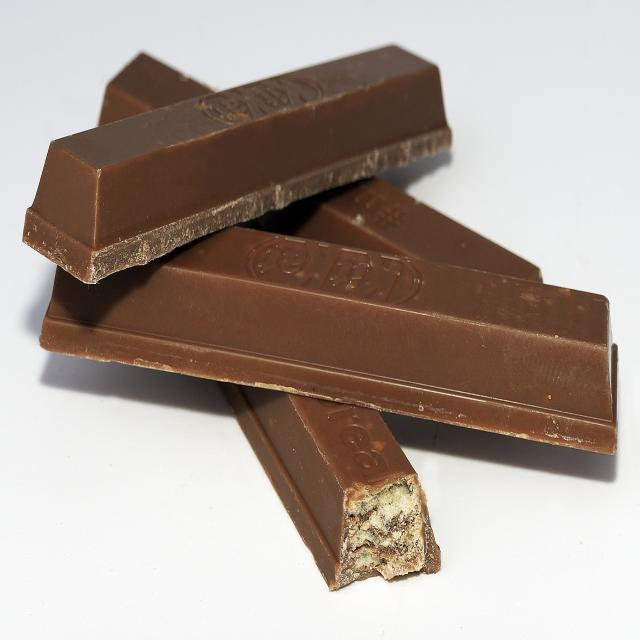Chocolate bar packaged: (14, 213, 622, 463), (23, 36, 454, 294)
